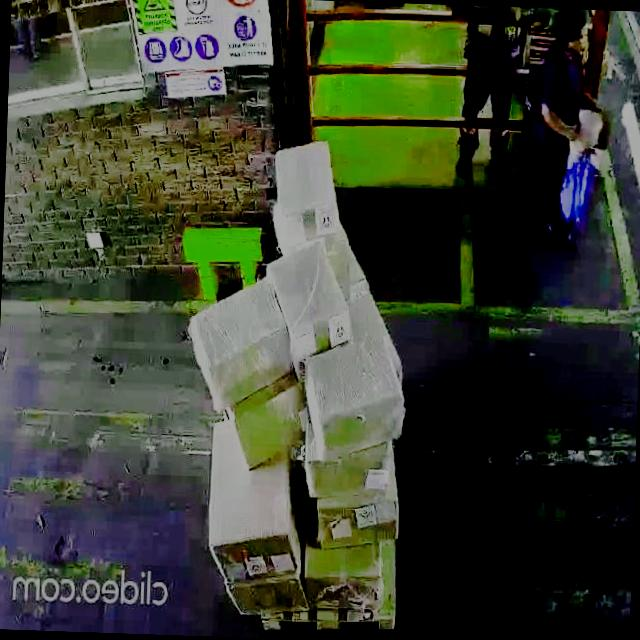Box: (305, 334, 408, 465), (190, 286, 288, 398), (208, 458, 294, 582), (283, 232, 349, 344), (232, 374, 306, 470), (272, 134, 340, 235), (300, 542, 380, 616), (312, 491, 398, 557), (302, 446, 392, 500), (225, 573, 304, 619)
